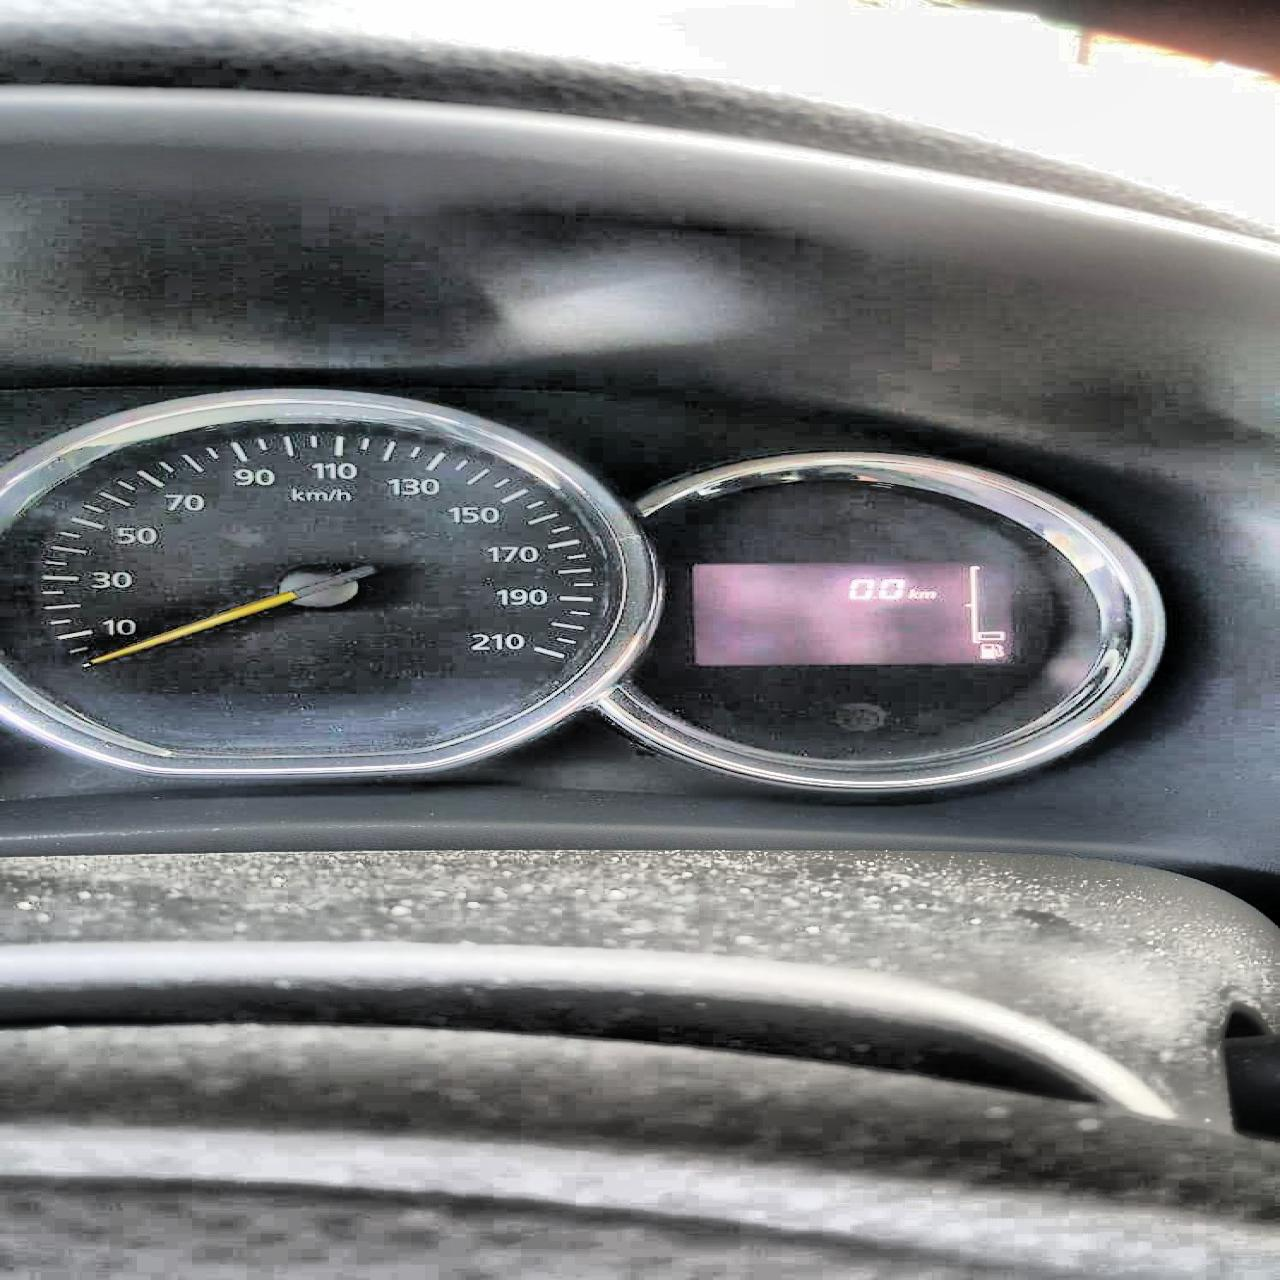-: (871, 594, 878, 599)
0: (876, 579, 904, 599), (846, 579, 873, 599)
X: (917, 591, 935, 598), (906, 588, 917, 599)
odometer: (686, 558, 1023, 668)
